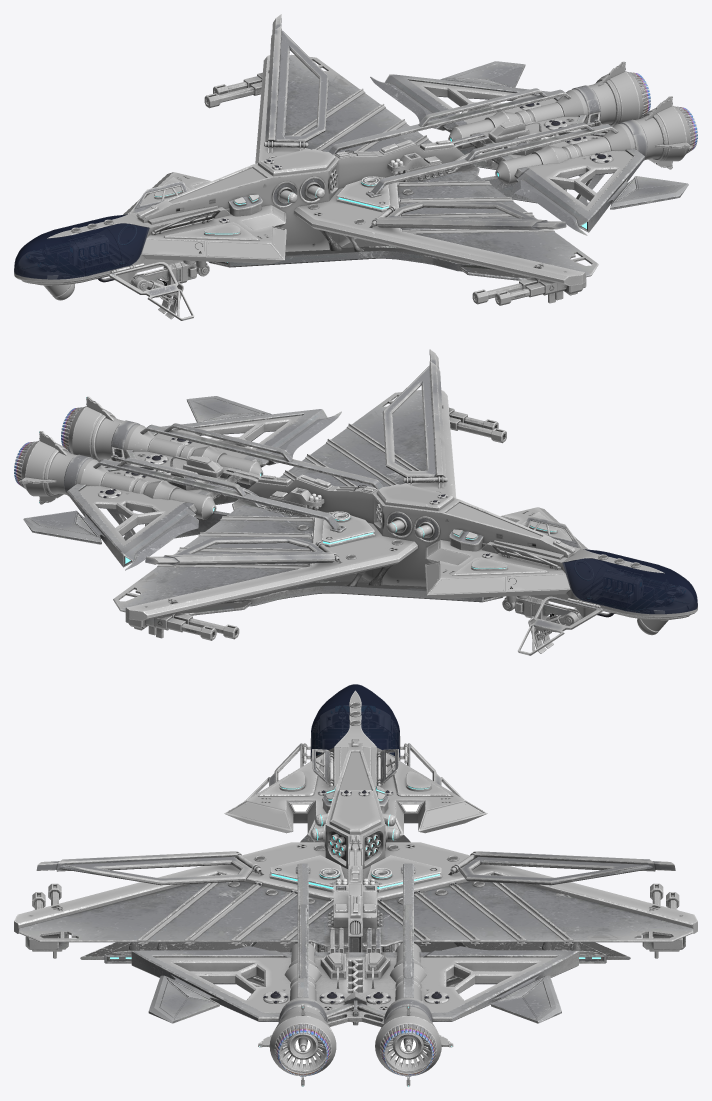
File: spaceship.glb
The picture shows the model from 3 angles, top to bottom: view 1: azimuth 30°, elevation 25°; view 2: azimuth 150°, elevation 25°; view 3: azimuth 270°, elevation 25°; orthographic projection. The views are drawn at different scales.
Visible parts, largest first — view 1: Cube.076, Cylinder.004, Cube.004, Cube.007, Cube.006, Cube.003, Cube.017, Cube.016, Cube.001, Cylinder.005, Cylinder.007, Cylinder.009 (+3 smaller); view 2: Cube.076, Cylinder.004, Cube.004, Cube.007, Cube.006, Cube.003, Cube.017, Cube.016, Cube.001, Cylinder.005, Cylinder.001, Cylinder.009 (+3 smaller); view 3: Cube.004, Cube.007, Cube.016, Cube.076, Cube.003, Cube.006, Cylinder.004, Cube.017, Cube.001, Cylinder.006, Cylinder.009, Cylinder.007 (+4 smaller).
Part boxes in pixels (bbox=[...]): Cube.076: bbox=[123, 139, 464, 263]; Cylinder.004: bbox=[14, 61, 692, 300]; Cube.004: bbox=[285, 54, 598, 277]; Cube.007: bbox=[255, 55, 585, 285]; Cube.006: bbox=[109, 14, 647, 320]; Cube.003: bbox=[363, 61, 688, 235]; Cube.017: bbox=[209, 88, 618, 280]; Cube.016: bbox=[219, 80, 632, 224]; Cube.001: bbox=[110, 72, 586, 305]; Cylinder.005: bbox=[14, 229, 85, 279]; Cylinder.007: bbox=[69, 227, 122, 276]; Cylinder.009: bbox=[92, 214, 149, 267]; Cube.076: bbox=[246, 474, 588, 598]; Cylinder.004: bbox=[19, 396, 697, 635]; Cube.004: bbox=[113, 390, 426, 612]; Cube.007: bbox=[125, 390, 456, 620]; Cube.006: bbox=[64, 349, 602, 655]; Cube.003: bbox=[23, 396, 348, 570]; Cube.017: bbox=[93, 423, 502, 615]; Cube.016: bbox=[79, 415, 492, 559]; Cube.001: bbox=[125, 407, 600, 640]; Cylinder.005: bbox=[626, 564, 697, 614]; Cylinder.001: bbox=[589, 561, 642, 611]; Cylinder.009: bbox=[562, 549, 619, 601]; Cube.004: bbox=[18, 881, 693, 946]; Cube.007: bbox=[14, 842, 697, 945]; Cube.016: bbox=[155, 785, 555, 1012]; Cube.076: bbox=[224, 739, 487, 952]; Cube.003: bbox=[112, 866, 598, 1027]; Cube.006: bbox=[36, 743, 675, 1022]; Cylinder.004: bbox=[258, 690, 453, 1086]; Cube.017: bbox=[80, 834, 630, 1022]; Cube.001: bbox=[25, 743, 685, 958]; Cylinder.006: bbox=[275, 1024, 436, 1076]; Cylinder.009: bbox=[310, 721, 400, 757]; Cylinder.007: bbox=[311, 701, 349, 751].
Bounding box in the file's own units: 53.08 × 10.62 × 43.19.
45 materials, 37 textured.
